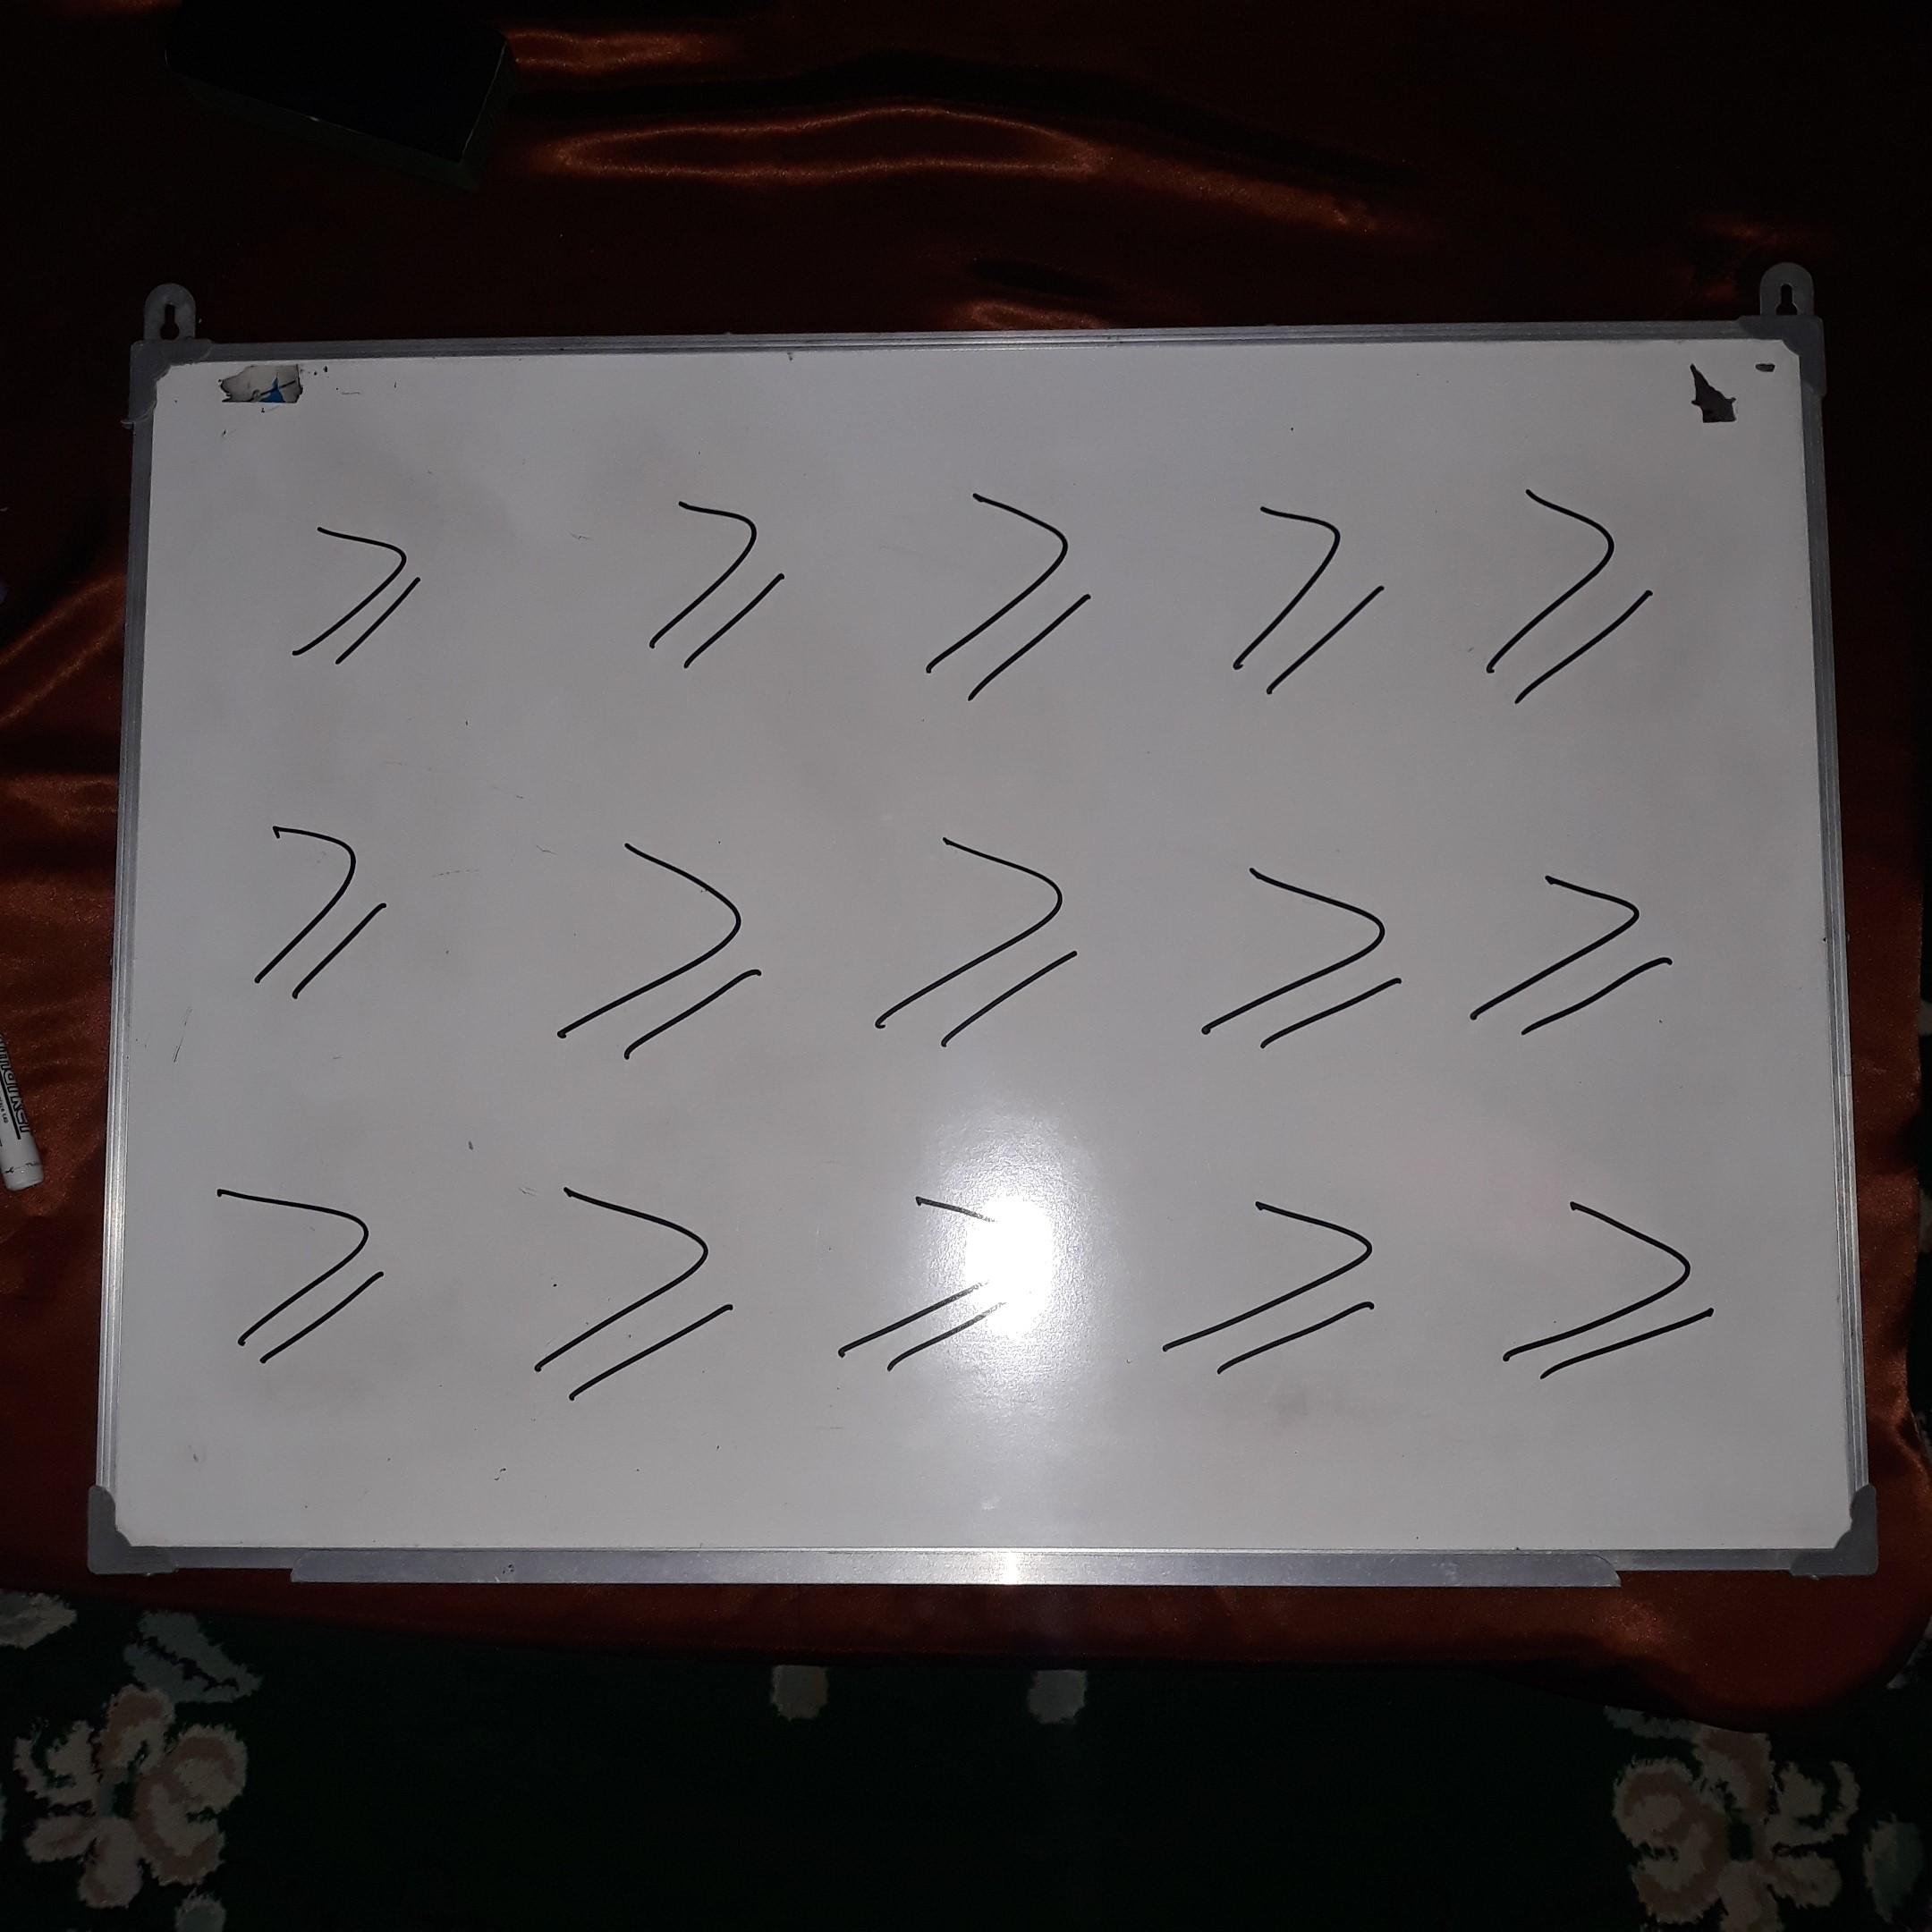morethan-equal: (818, 1145, 1068, 1403), (1137, 1153, 1387, 1411), (1479, 1163, 1729, 1421), (1456, 835, 1690, 1082), (172, 1144, 406, 1392), (860, 819, 1094, 1067), (1173, 835, 1407, 1082), (511, 1172, 745, 1419), (1458, 469, 1675, 720), (550, 831, 767, 1071), (220, 797, 423, 1024), (908, 477, 1113, 699), (615, 484, 815, 696), (1202, 493, 1402, 705), (259, 508, 449, 689)
